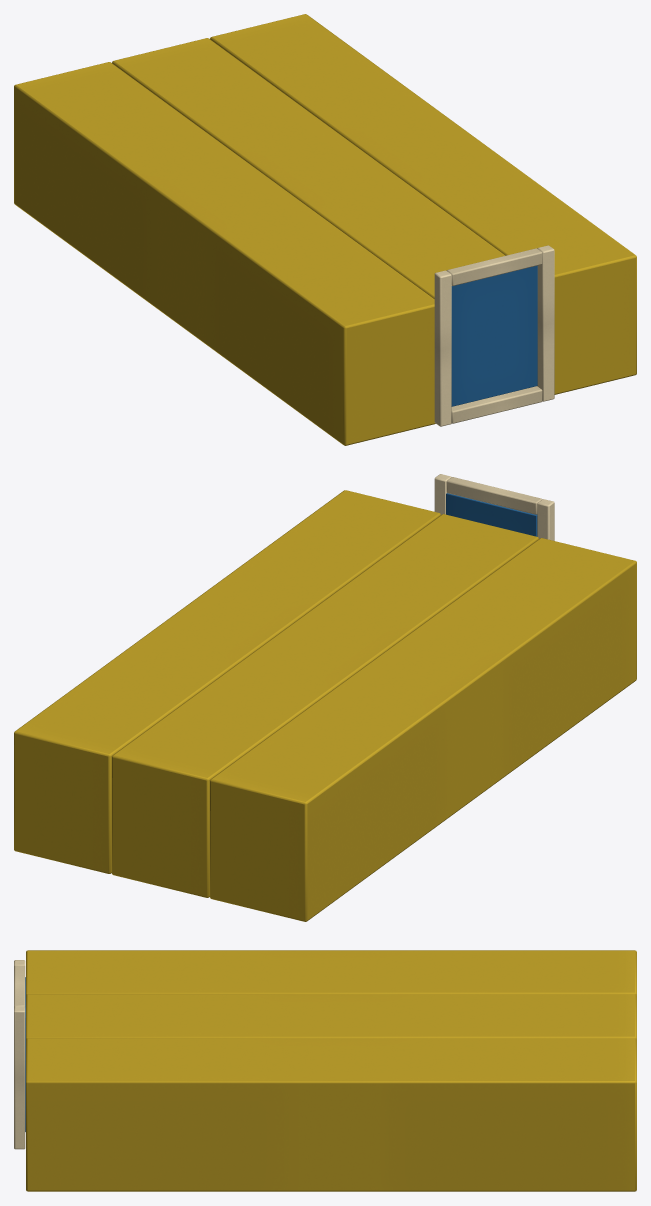
The model's file is 15-right-toy-leg-course-5.fbx.
3 views of the same model, one above another, from view 1: azimuth 30°, elevation 25°; view 2: azimuth 150°, elevation 25°; view 3: azimuth 270°, elevation 25° (orthographic). The views are drawn at different scales.
Visible parts, largest first — view 1: right-toy-leg-course-5; view 2: right-toy-leg-course-5; view 3: right-toy-leg-course-5.
Boxes of the visible parts, x1,y1,x2,y2 form: right-toy-leg-course-5: (14, 14, 636, 445); right-toy-leg-course-5: (14, 474, 636, 921); right-toy-leg-course-5: (14, 950, 636, 1191).
Bounding box in the file's own units: 4085 × 2033 × 8155.
Materials: 1 (1 with a texture image).
